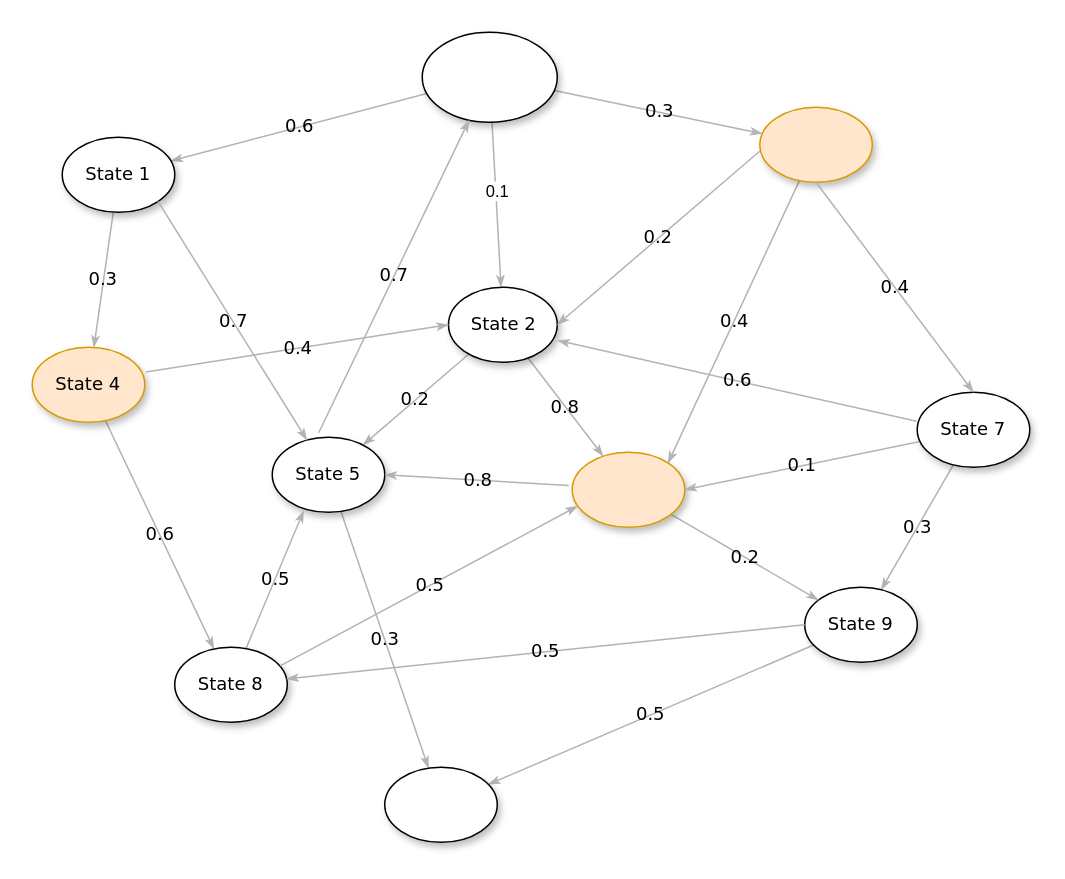
This 1065x879 diagram has some shape labels left out. The centre of each missing label's shape, as x and y in pixels:
Initial State: point (490, 79)
State 3: point (816, 146)
State 6: point (629, 491)
Terminal State: point (441, 806)
